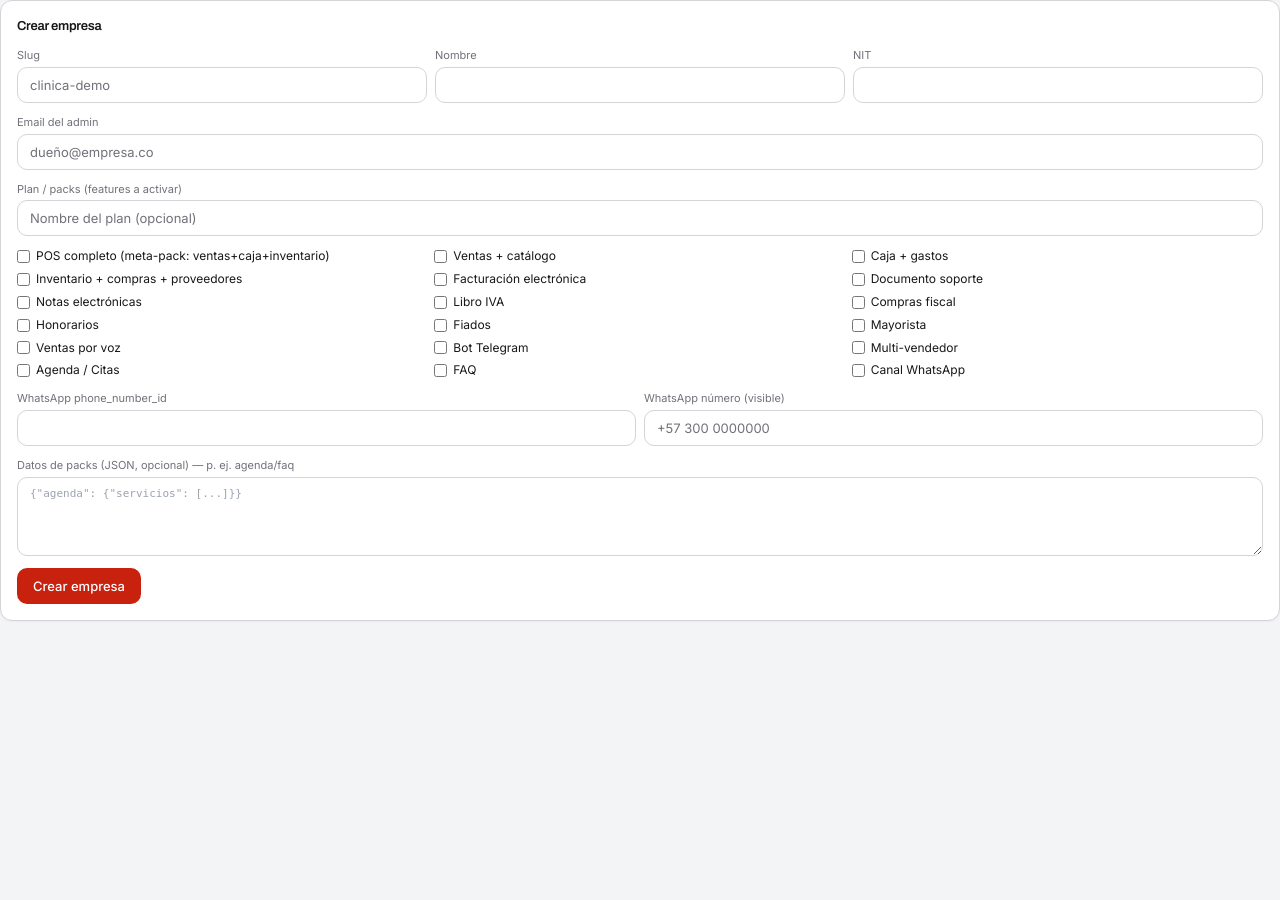
Test: CrearTenantForm (arma manifiesto + encola + polling) › manifiesto rechazado por el backend (422) muestra el motivo y NO entra en polling
The width and height of the screenshot is (1280, 900).
Type "Mala" into the field labelled "Slug". click: (222, 85)
box: [17,67,427,103]
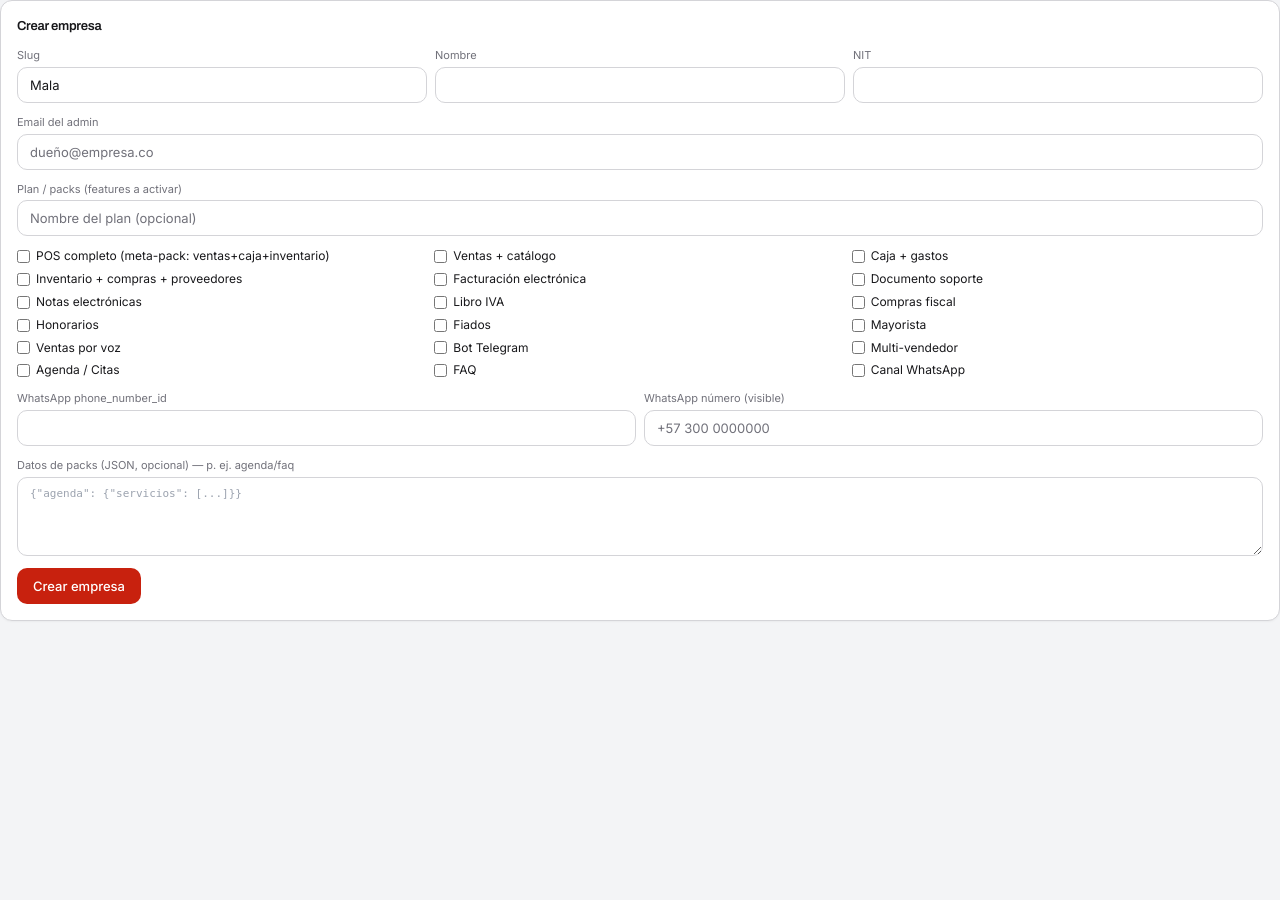
Type "X" into the field labelled "Nombre". click: (640, 85)
box: [435,67,845,103]
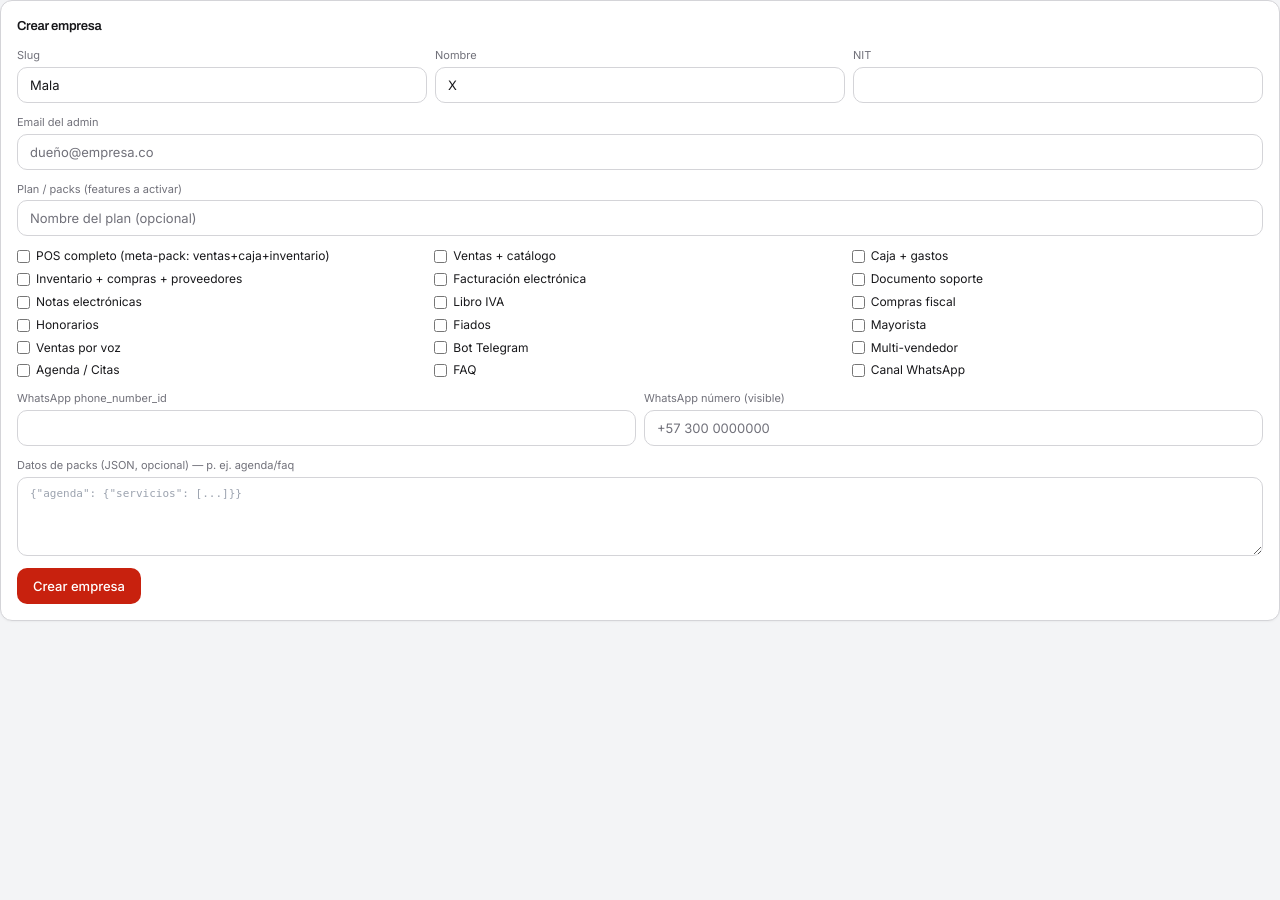
Type "N" into the field labelled "NIT". click: (1058, 85)
box: [853,67,1263,103]
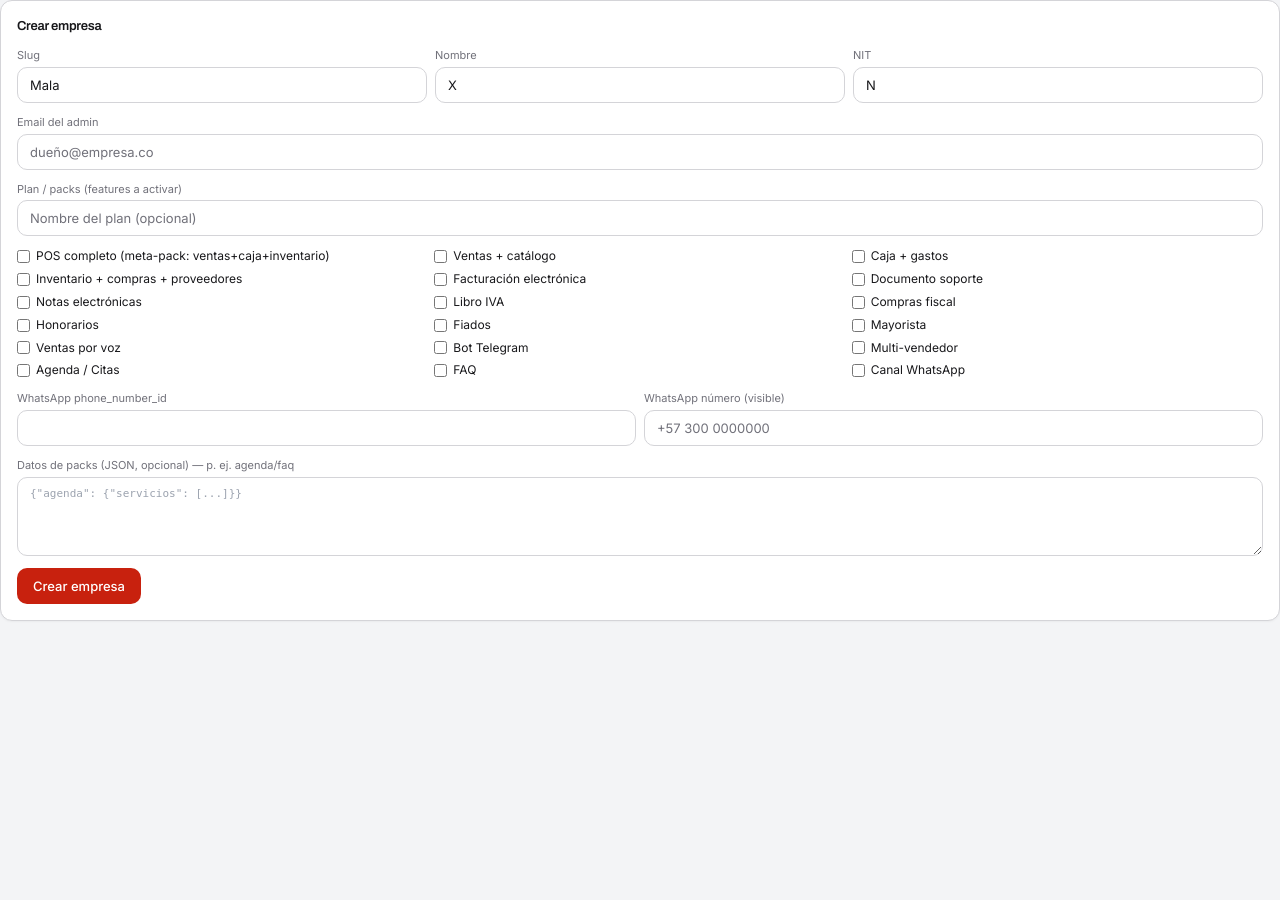
Click the button "Crear empresa". click: (79, 586)
box: [17,568,141,604]
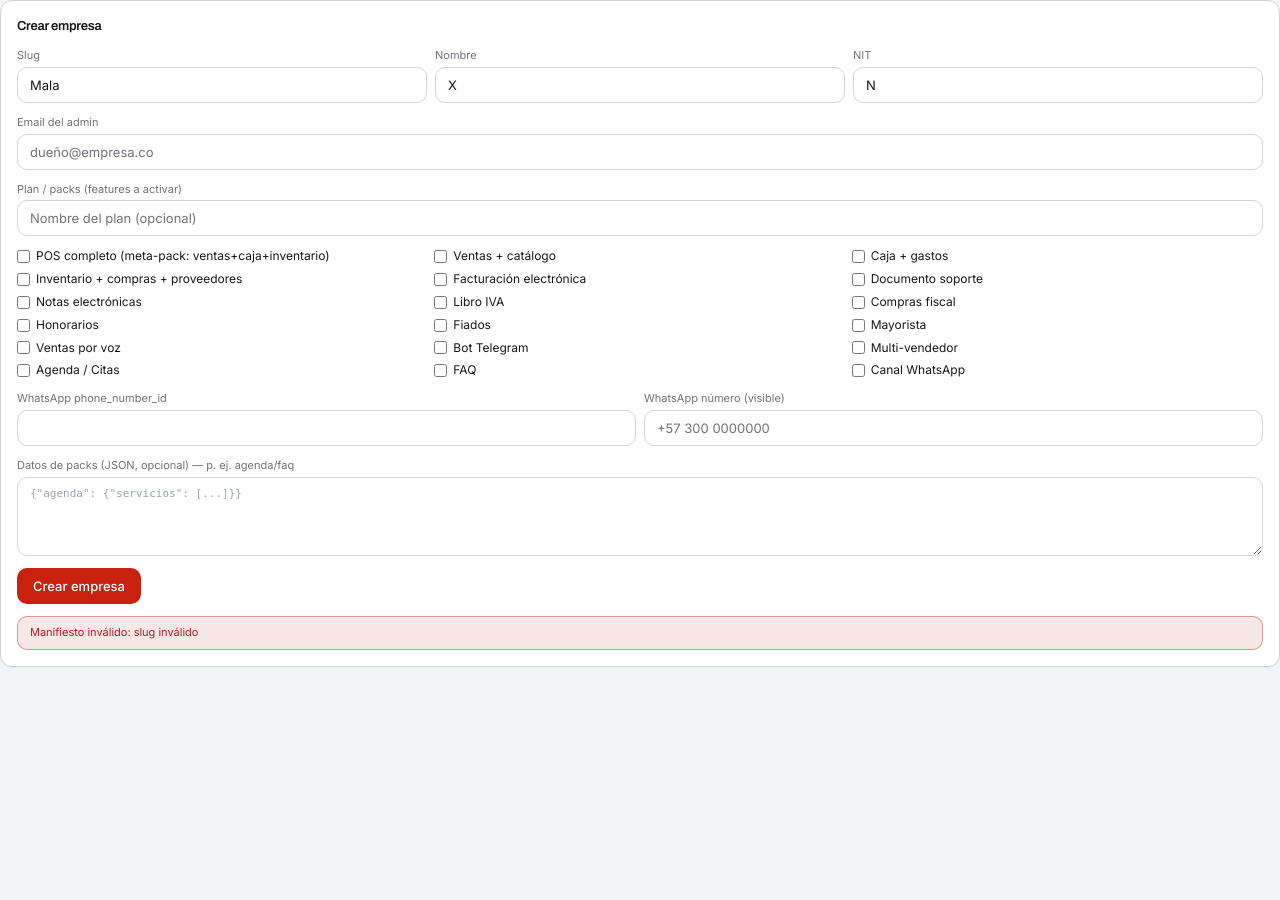
Expected: the text "Manifiesto inválido: slug inválido" is shown, [17,616,1263,650]
